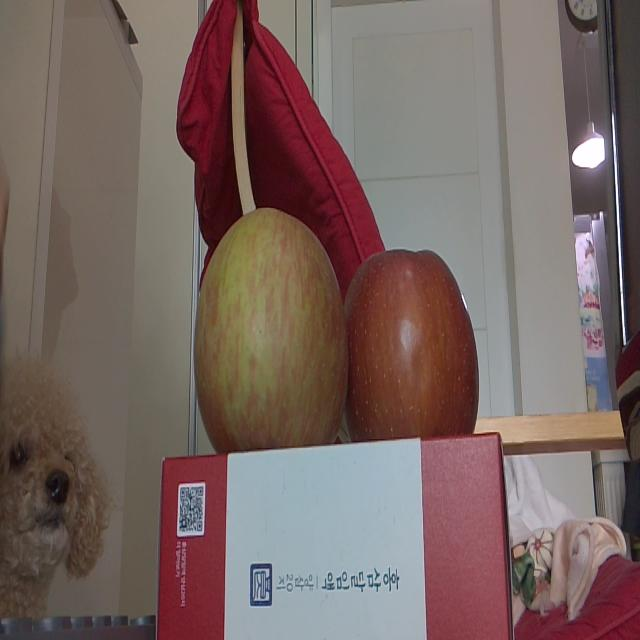apple: (194, 208, 348, 447), (347, 249, 479, 439)
